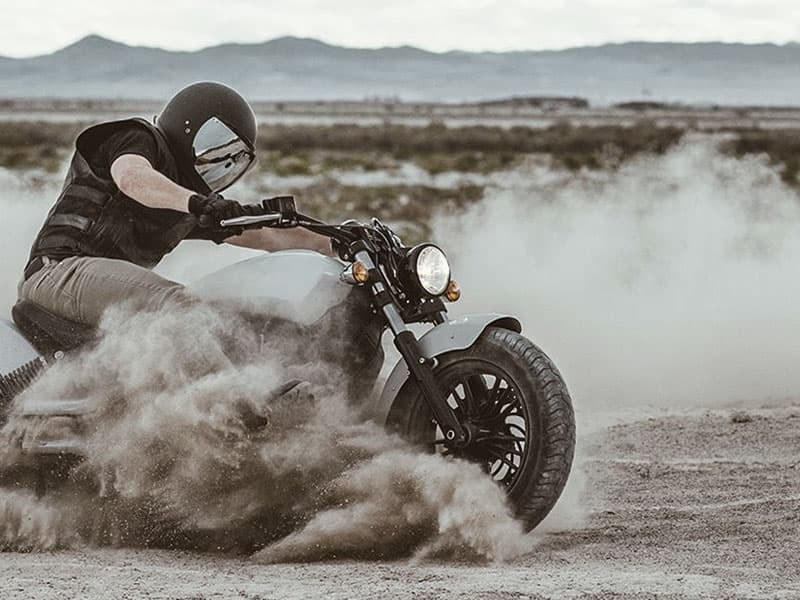helmet: (56, 57, 477, 371)
